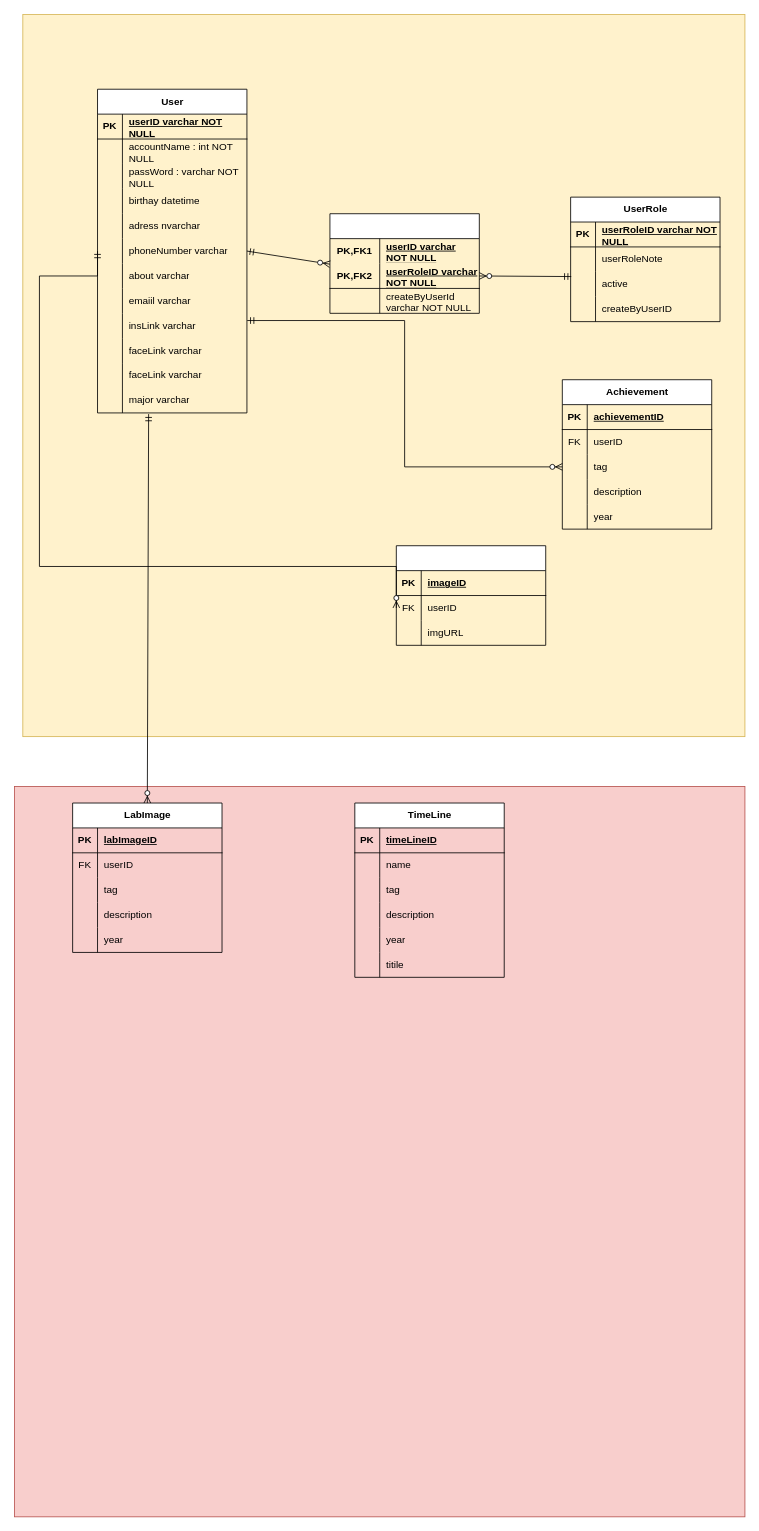
Some shapes in this 759 by 1531 pixel diagram are drawn without their labels. Each missing label, with the box of its shape:
ImgeUser: (395, 545, 546, 645)
UserUserRole: (329, 213, 479, 313)
